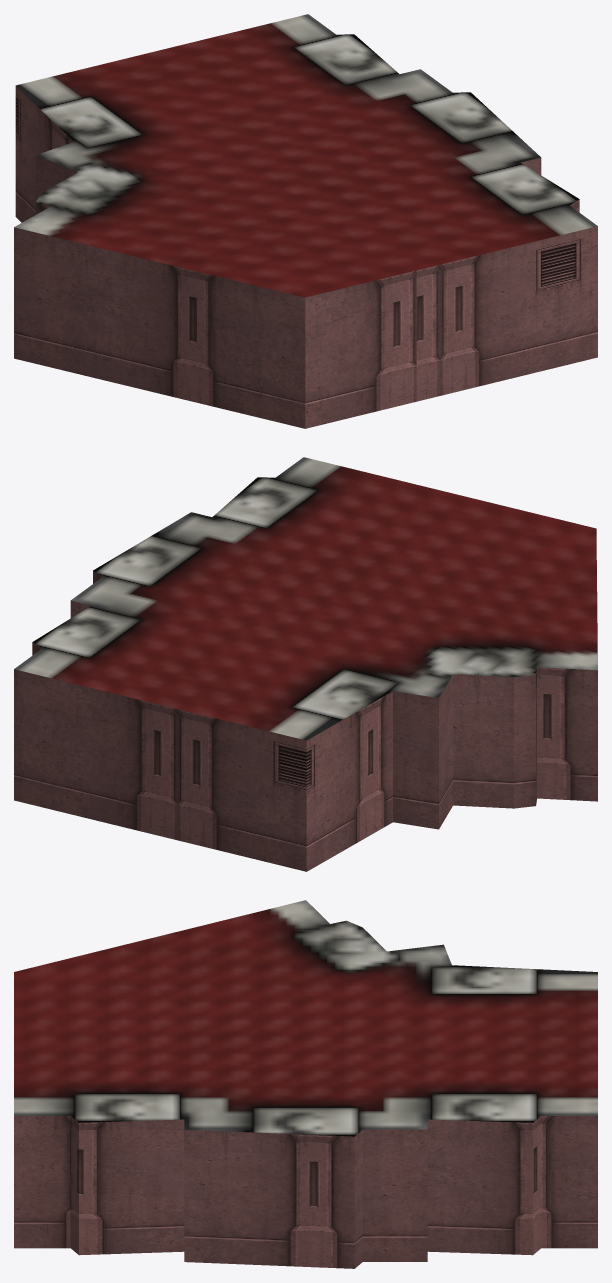
File: hardened_roof25.glb
3 views of the same model, one above another, from view 1: azimuth 30°, elevation 25°; view 2: azimuth 150°, elevation 25°; view 3: azimuth 270°, elevation 25° (orthographic).
Parts seen in each view (by area): view 1: buildings/saxarba/hard/hardened_roof25; view 2: buildings/saxarba/hard/hardened_roof25; view 3: buildings/saxarba/hard/hardened_roof25.
Boxes of the visible parts, <box> form: buildings/saxarba/hard/hardened_roof25: <box>14,14,597,428</box>; buildings/saxarba/hard/hardened_roof25: <box>14,457,597,871</box>; buildings/saxarba/hard/hardened_roof25: <box>14,900,597,1268</box>.
Bounding box in the file's own units: 69 × 18 × 72.
